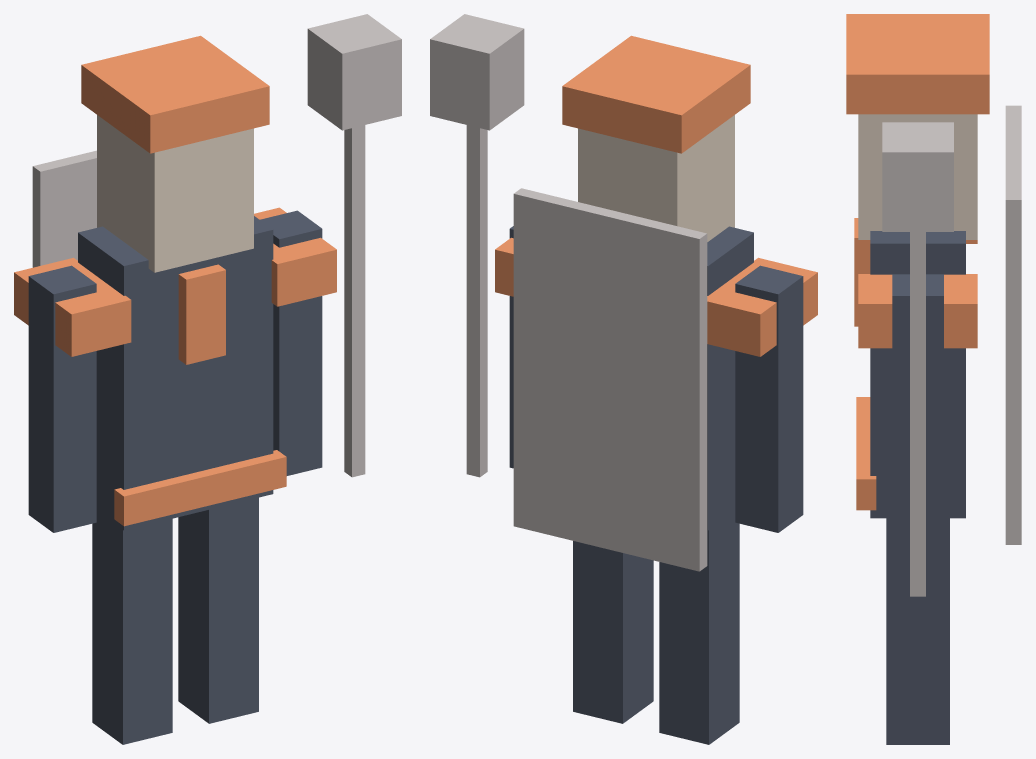
File: 14_tovin_gravesong_oracle_from_surface.glb
The picture shows the model from 3 angles, left to right: view 1: azimuth 30°, elevation 25°; view 2: azimuth 150°, elevation 25°; view 3: azimuth 270°, elevation 25°; orthographic projection. The views are drawn at different scales.
Visible parts, largest first — view 1: Tovin Gravesong, Oracle from Surface; view 2: Tovin Gravesong, Oracle from Surface; view 3: Tovin Gravesong, Oracle from Surface.
Part boxes in pixels (x1,y1,x2,y2): Tovin Gravesong, Oracle from Surface: (14, 14, 401, 744); Tovin Gravesong, Oracle from Surface: (430, 14, 817, 744); Tovin Gravesong, Oracle from Surface: (846, 14, 1021, 744).
Bounding box in the file's own units: 0.9531 × 1.7 × 0.4052.
